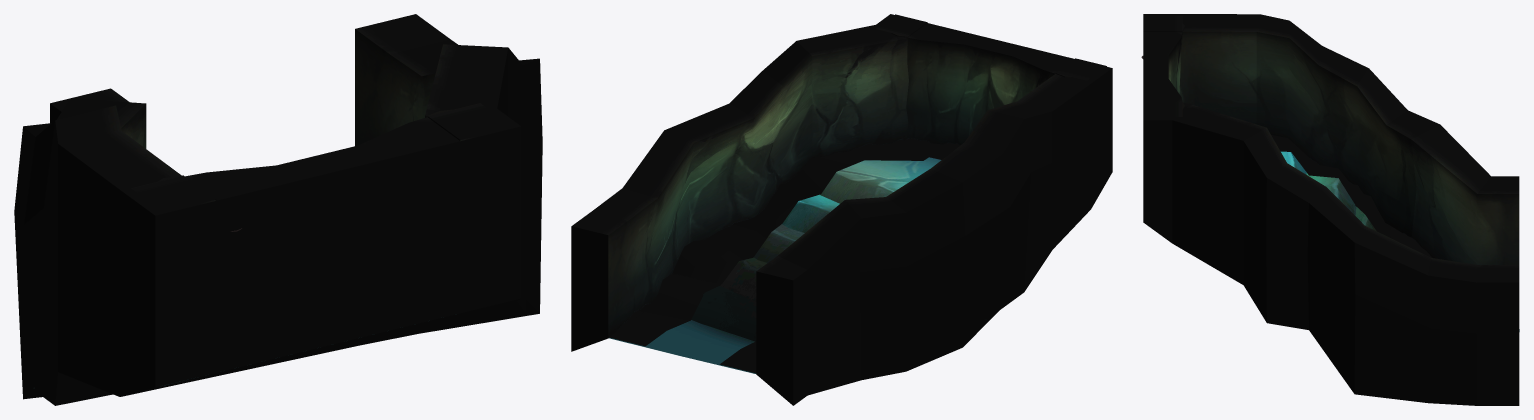
Rendered from Dungeon_073_GoalStepD_003.fbx.
3 views of the same model, side by side, from view 1: azimuth 30°, elevation 25°; view 2: azimuth 150°, elevation 25°; view 3: azimuth 270°, elevation 25° (orthographic). The views are drawn at different scales.
Visible parts, largest first — view 1: Dun_073_StepD_001_wall, Dun_073_Door_002; view 2: Dun_073_StepD_001_wall, Dun_073_Door_002, Dun_073_StepD_001_shadow, Dun_073_StepD_001_ground; view 3: Dun_073_StepD_001_wall, Dun_073_Door_002, Dun_073_StepD_001_shadow, Dun_073_StepD_001_ground.
Part boxes in pixels (box(x1,y1,x2,y2)): Dun_073_StepD_001_wall: box(14, 14, 542, 405); Dun_073_Door_002: box(131, 103, 512, 372); Dun_073_StepD_001_wall: box(571, 14, 1112, 405); Dun_073_Door_002: box(876, 14, 1106, 145); Dun_073_StepD_001_shadow: box(609, 138, 950, 373); Dun_073_StepD_001_ground: box(609, 157, 986, 373); Dun_073_StepD_001_wall: box(1143, 14, 1519, 405); Dun_073_Door_002: box(1143, 15, 1185, 116); Dun_073_StepD_001_shadow: box(1271, 135, 1432, 257); Dun_073_StepD_001_ground: box(1281, 151, 1519, 331).
Size of what is drawn, in the model's own units: 7.09 by 4.45 by 6.77.
